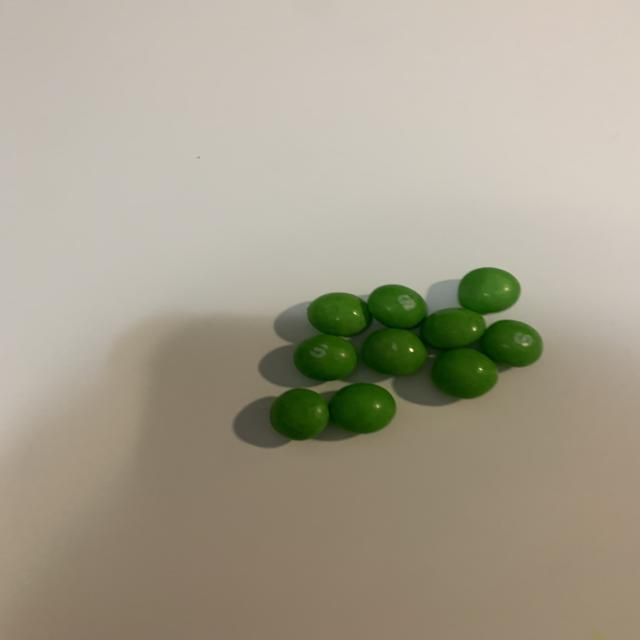smartie: (329, 383, 396, 434), (432, 348, 499, 399), (361, 328, 428, 376), (270, 389, 329, 441), (293, 335, 357, 381), (481, 320, 543, 367), (458, 267, 521, 313), (307, 293, 371, 336), (367, 284, 427, 329), (421, 308, 486, 349)
